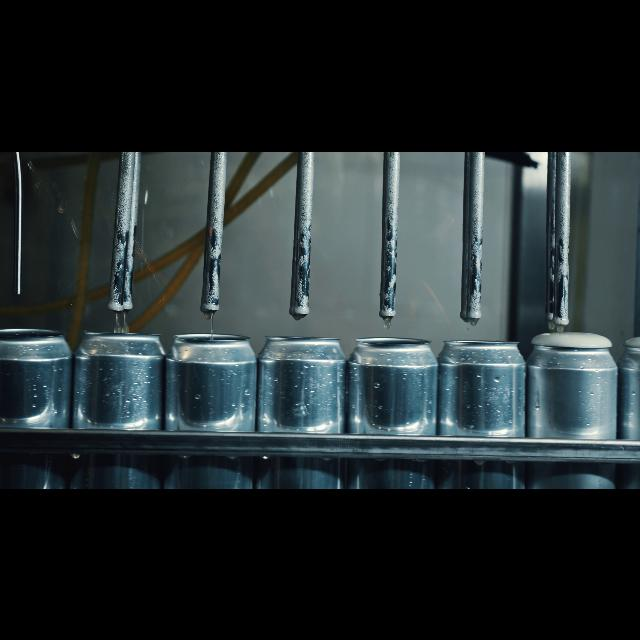empty: (261, 314, 349, 488), (80, 316, 162, 488), (170, 320, 252, 488), (358, 322, 437, 488), (444, 322, 522, 488), (1, 318, 73, 488)
full: (528, 316, 616, 488)
